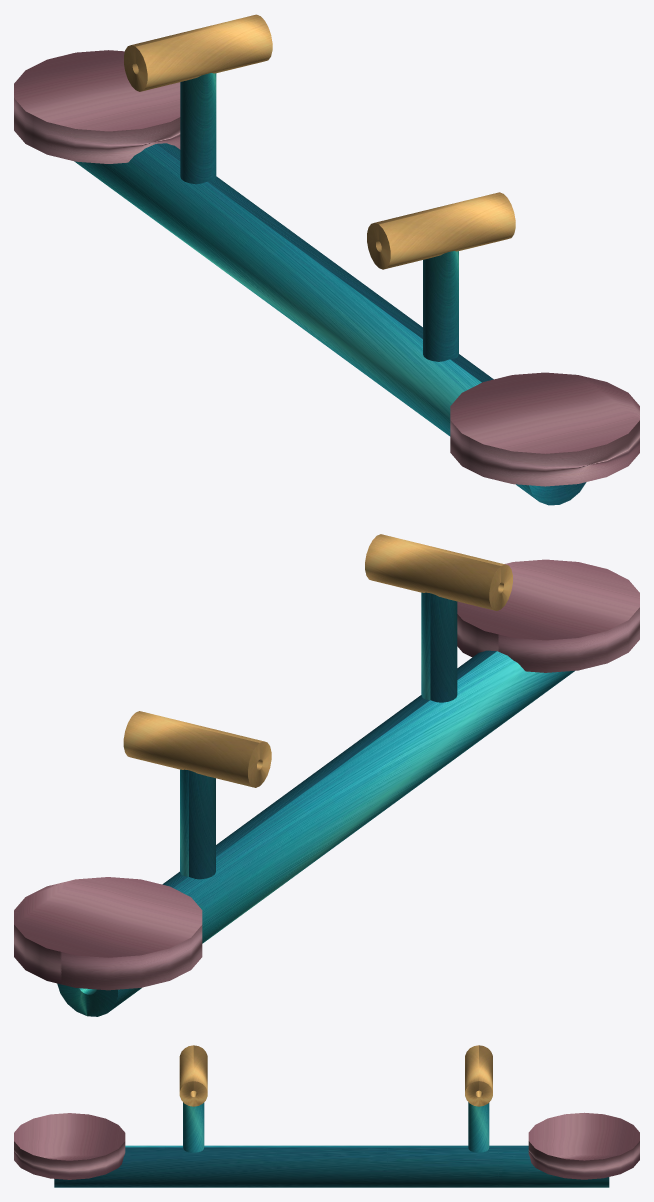
File: suyba02.obj
3 renders of one model, top to bottom at view 1: azimuth 30°, elevation 25°; view 2: azimuth 150°, elevation 25°; view 3: azimuth 270°, elevation 25°, orthographic. The views are drawn at different scales.
Parts seen in each view (by area): view 1: asiento04; view 2: asiento04; view 3: asiento04.
Part boxes in pixels (bbox=[...]): asiento04: bbox=[14, 14, 639, 505]; asiento04: bbox=[14, 534, 639, 1016]; asiento04: bbox=[14, 1045, 639, 1187].
Size of the model in its own units: 16.16 by 19.16 by 88.63.
Materials: 3 (3 with a texture image).
